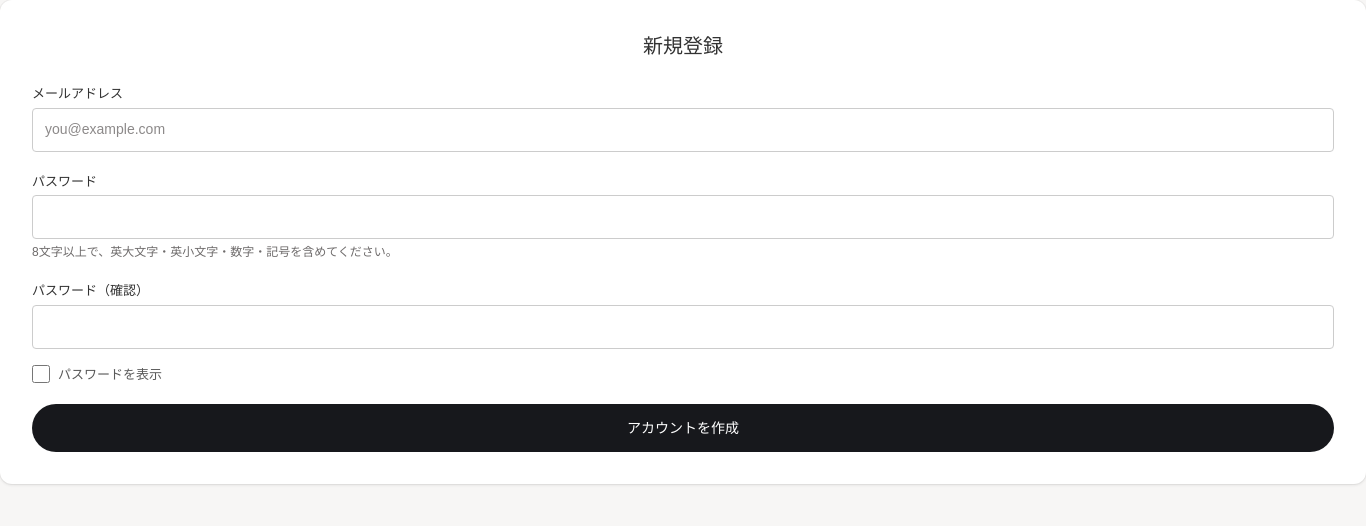
Scenario: notifies backend validation failures without creating a session
The image size is (1366, 526).
In the field labelled "メールアドレス": (683, 130) top-left (32, 108), bottom-right (1334, 152), type "test@example.com"
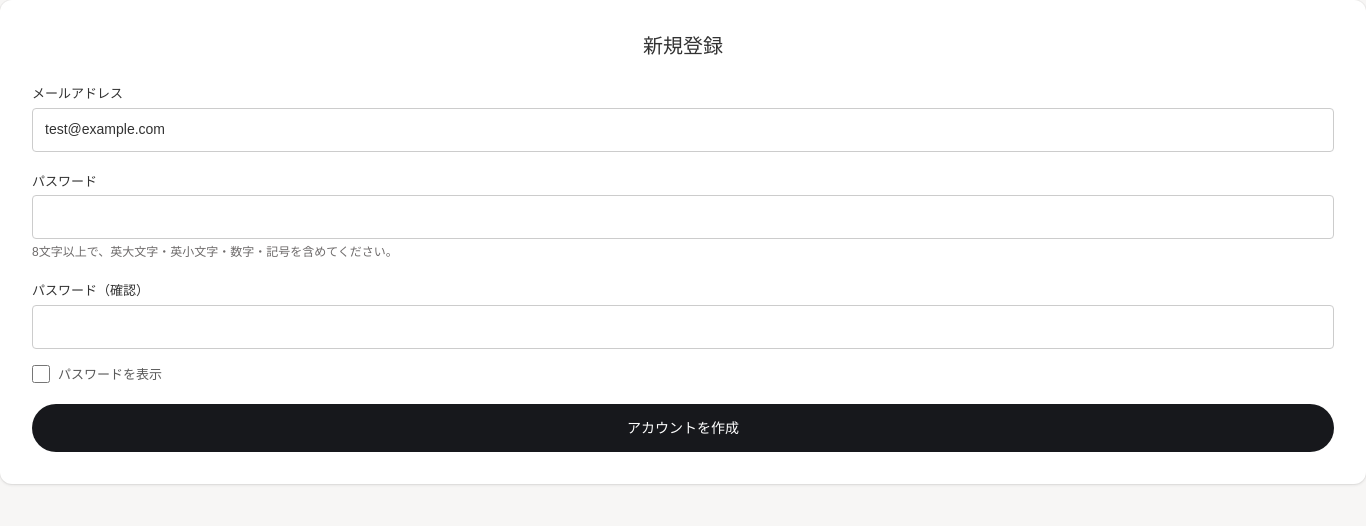
In the password field labelled "パスワード": (683, 217) top-left (32, 195), bottom-right (1334, 239), type "Password1!"
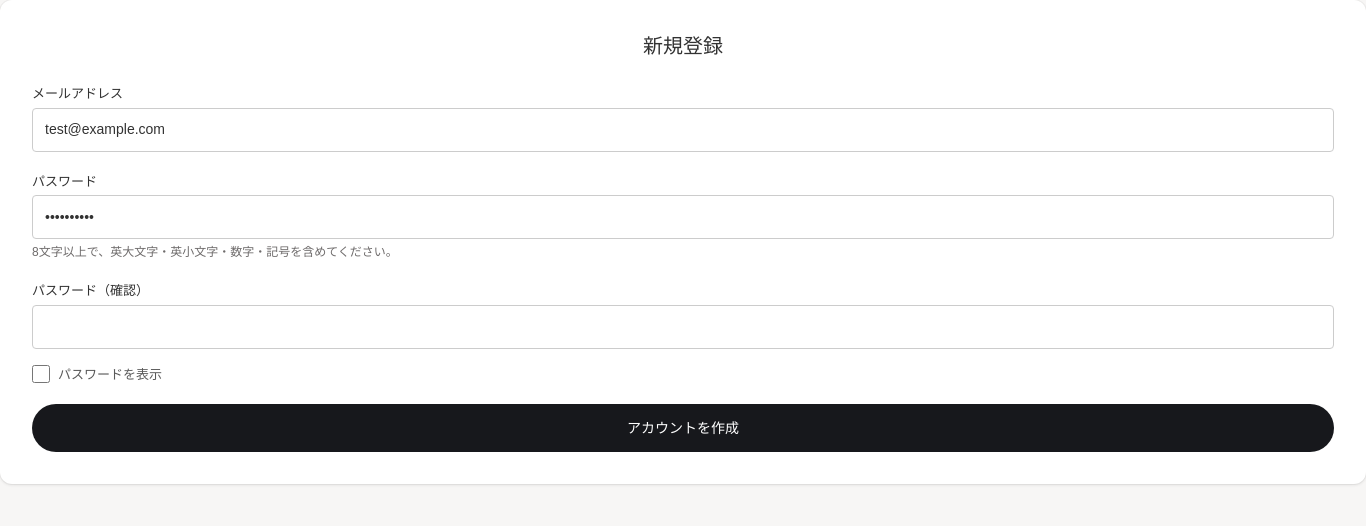
In the password field labelled "パスワード（確認）": (683, 326) top-left (32, 304), bottom-right (1334, 348), type "Password1!"
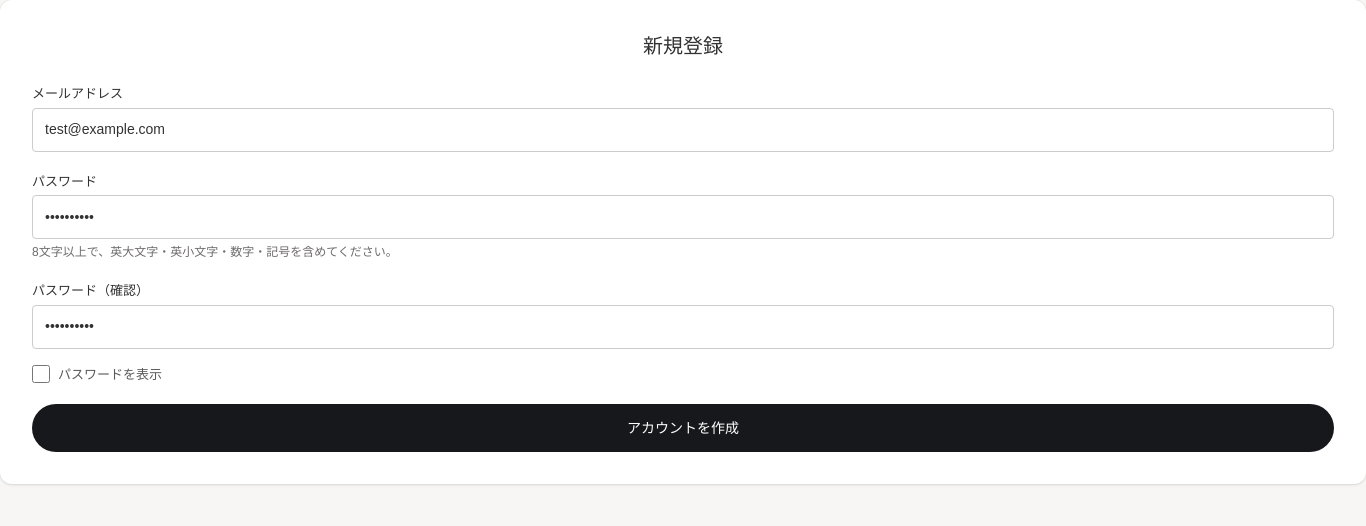
Click the button "アカウントを作成": click(683, 428) top-left (32, 404), bottom-right (1334, 452)
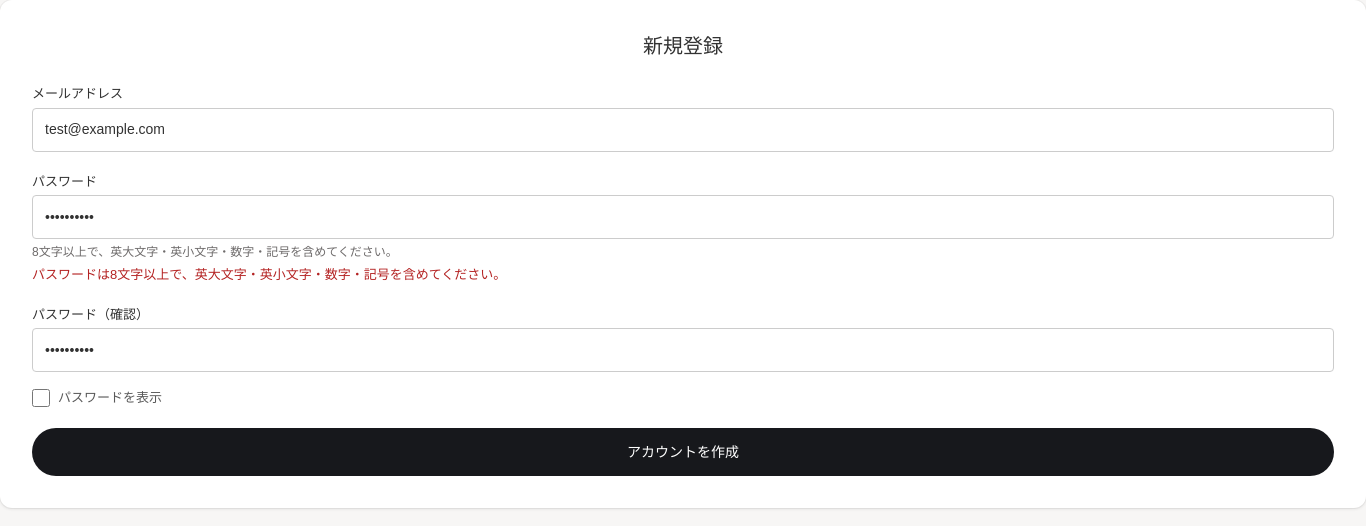
Expected: the button "アカウントを作成" is enabled, top-left (32, 428), bottom-right (1334, 476)
Result: the text "パスワードは8文字以上で、英大文字・英小文字・数字・記号を含めてください。" is shown at top-left (32, 267), bottom-right (506, 282)
